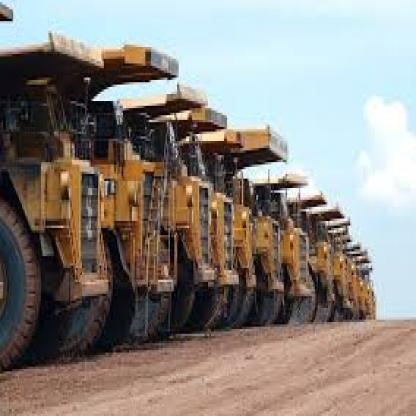dump_truck: (1, 31, 118, 364), (107, 28, 195, 369)
